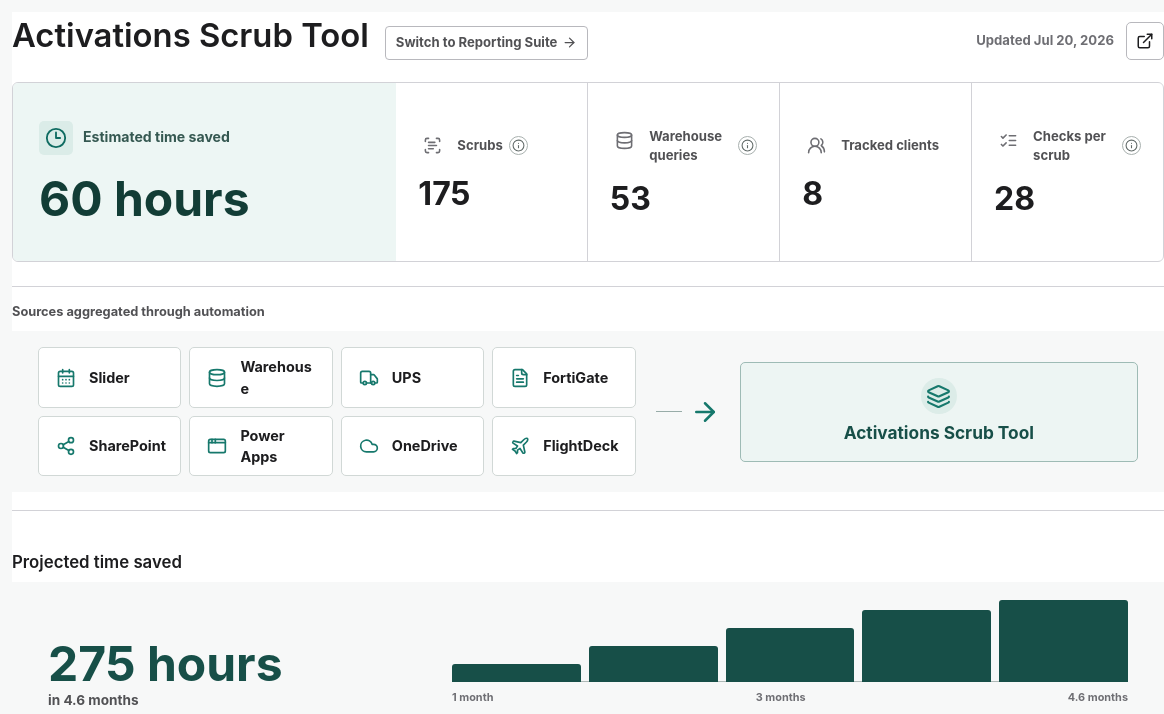
Test: MetricsPage › explains KPI definitions on hover and keyboard focus
The image size is (1164, 714).
Hover over the button named "About Scrubs" at (518, 146), box x1=509 y1=136 x2=528 y2=155
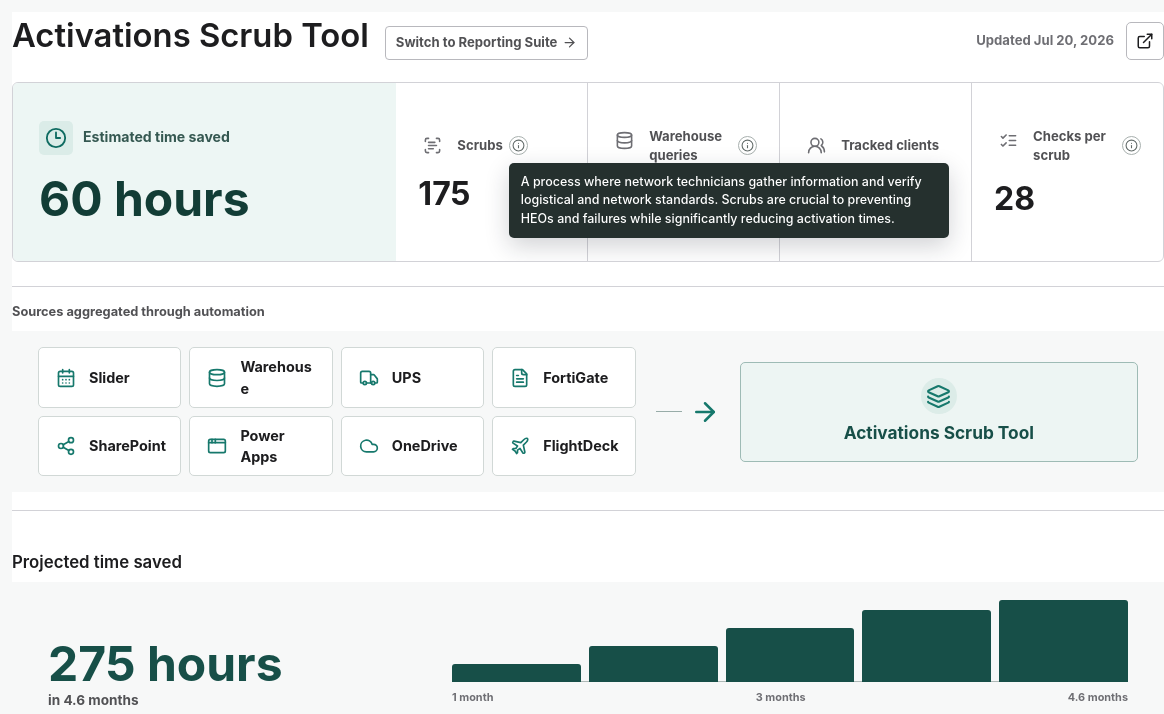
Now the tooltip shows "A process where network technicians gather information and verify logistical and network standards. Scrubs are crucial to preventing HEOs and failures while sig", box x1=521 y1=174 x2=922 y2=226
Move the pointer off the button named "About Scrubs", box x1=509 y1=136 x2=528 y2=155
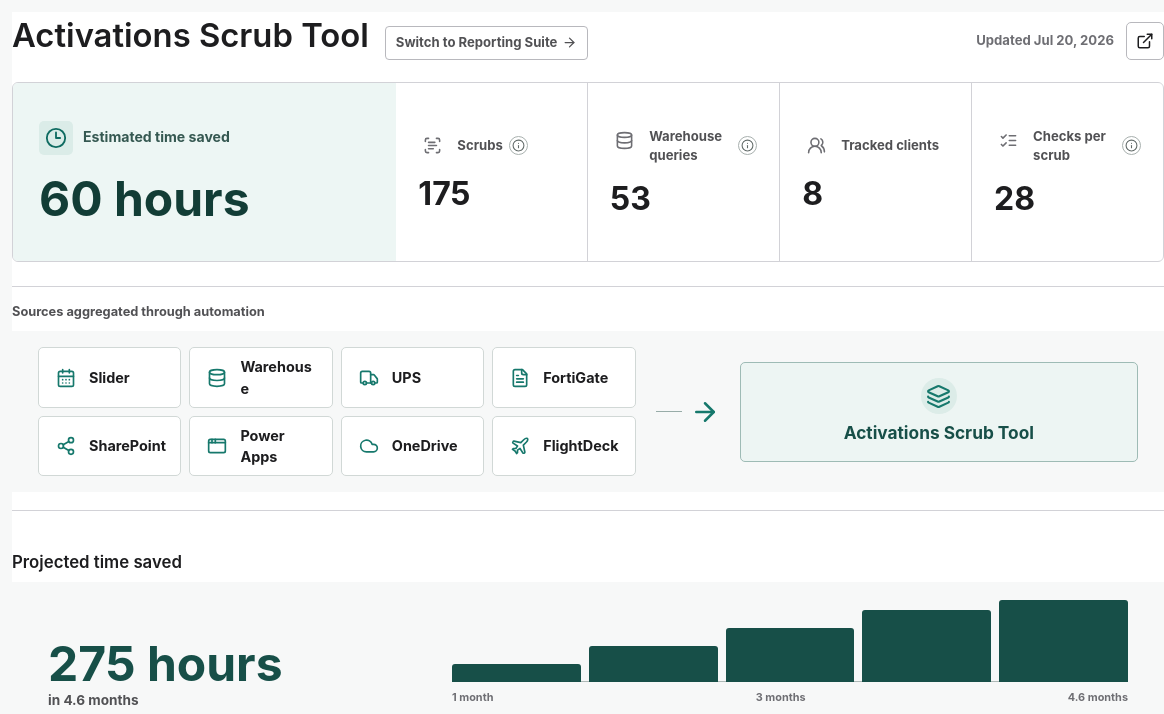
Now the tooltip is gone
Click the button named "About Warehouse queries" at (748, 146), box x1=738 y1=136 x2=757 y2=155
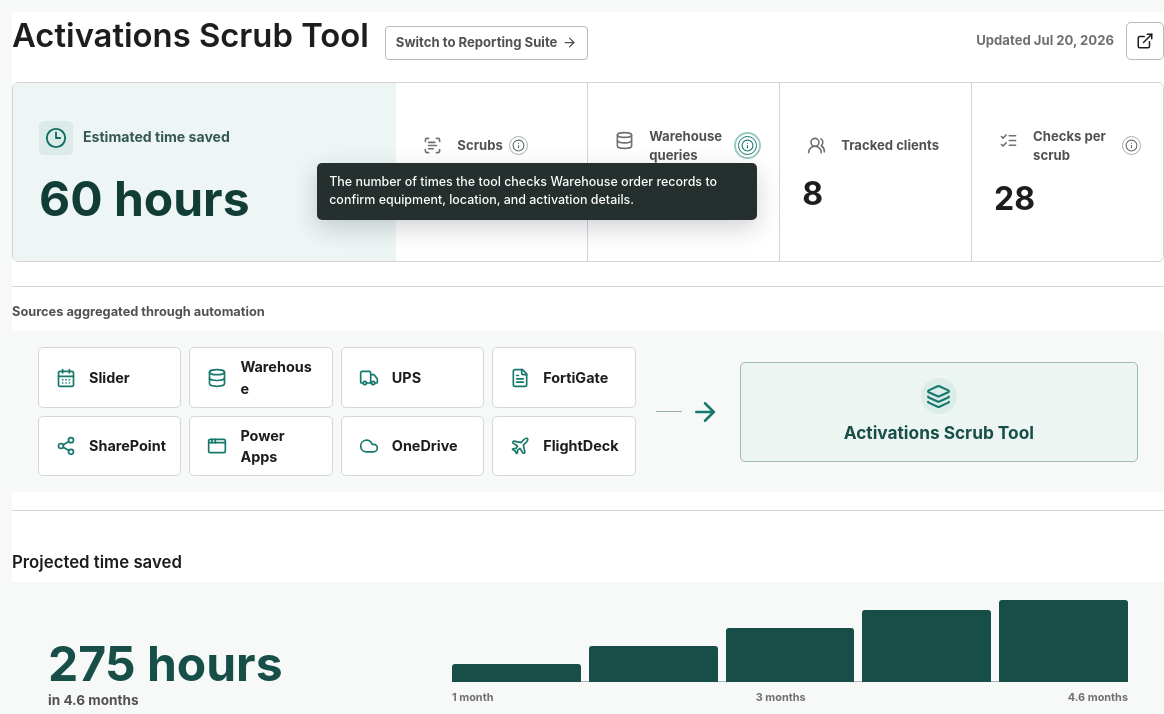
Now the tooltip shows "The number of times the tool checks Warehouse order records to confirm equipment, location, and activation details.", box x1=329 y1=174 x2=717 y2=208
Press Escape
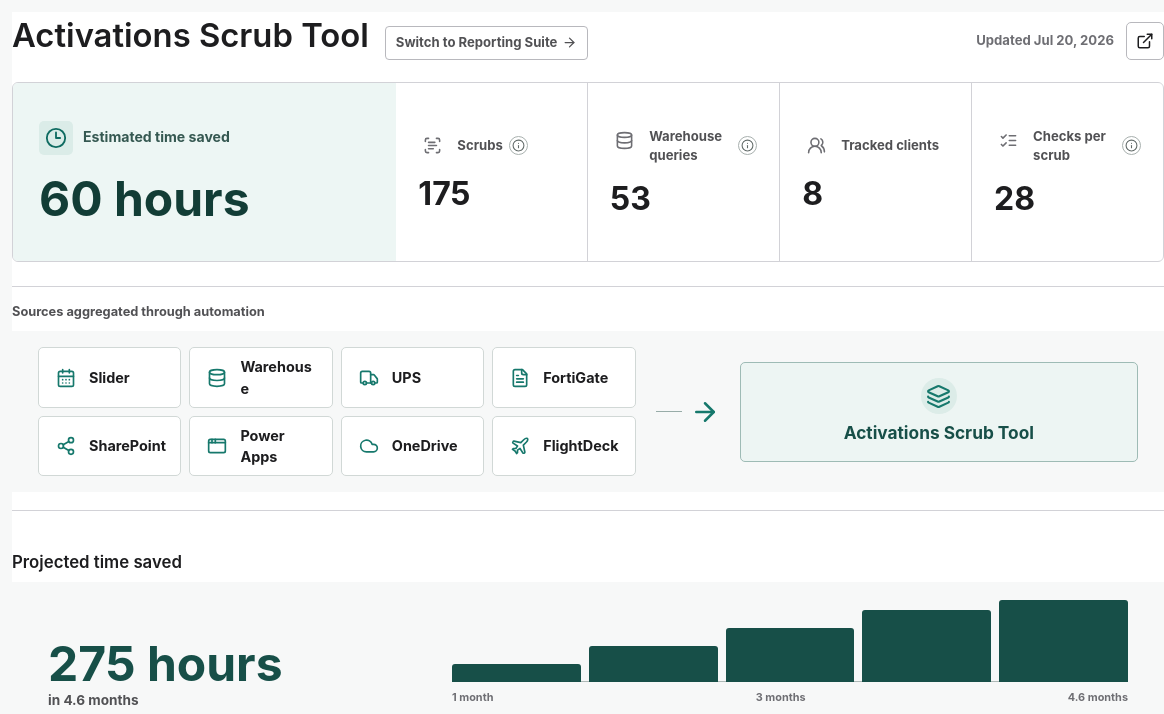
Now the tooltip is gone
Click the button named "About Checks per scrub" at (1132, 146), box x1=1122 y1=136 x2=1141 y2=155
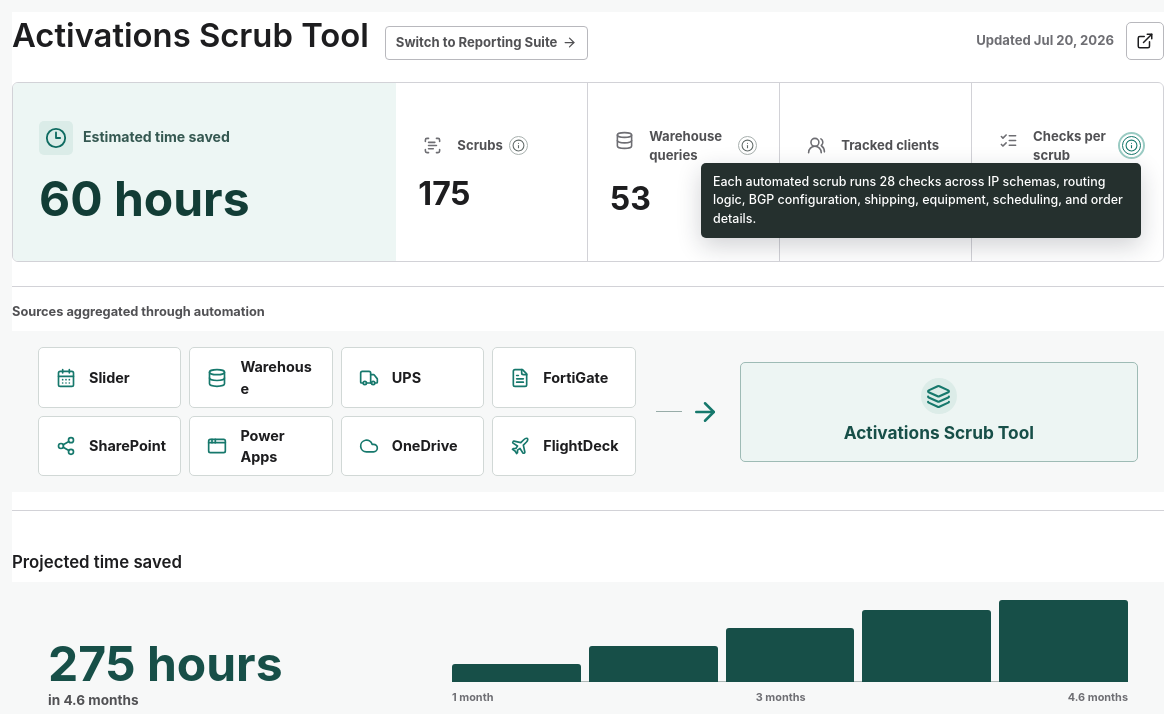
Now the tooltip shows "Each automated scrub runs 28 checks across IP schemas, routing logic, BGP configuration, shipping, equipment, scheduling, and order details.", box x1=713 y1=174 x2=1123 y2=226
Press Escape
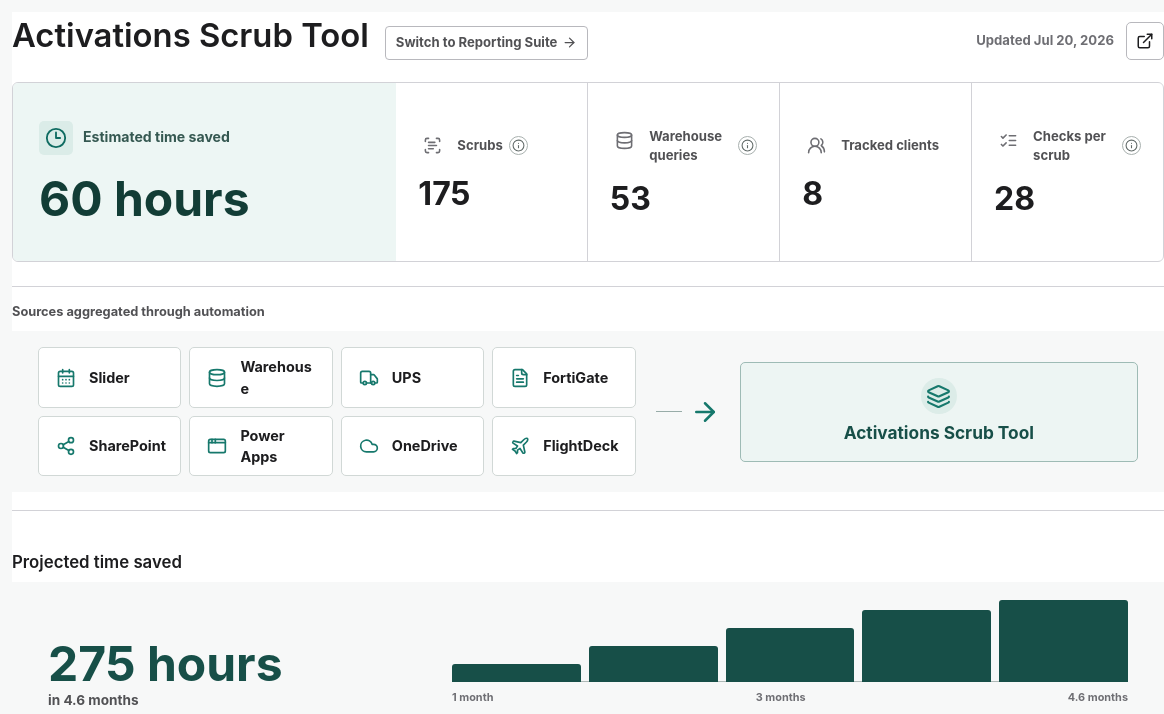
Now the tooltip is gone
